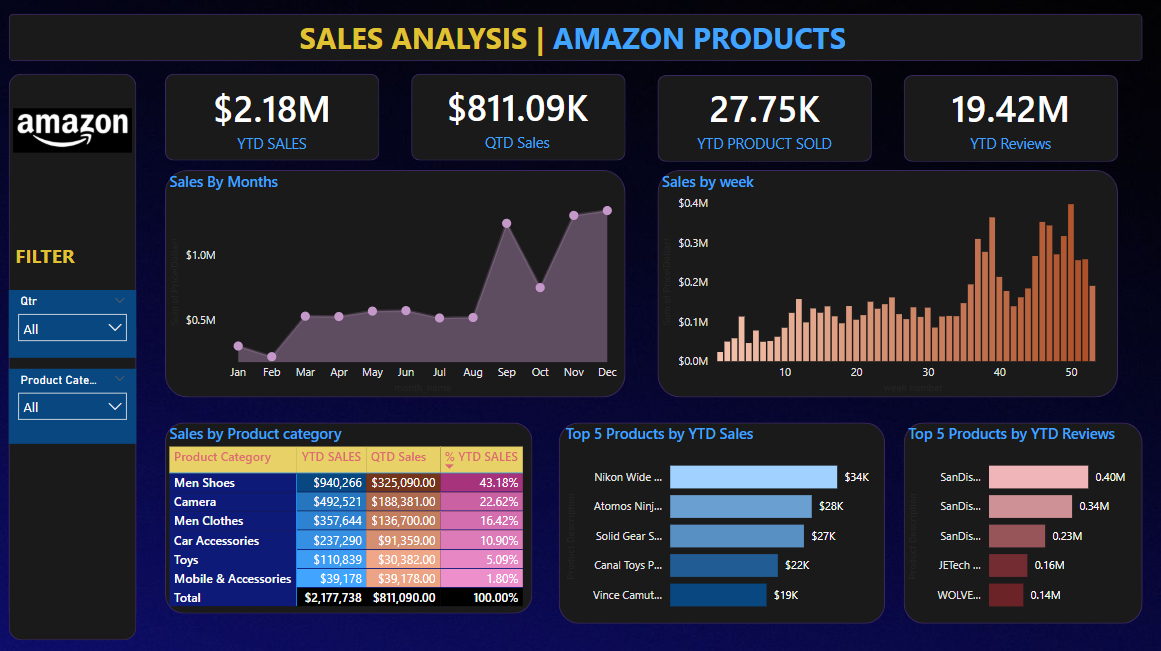

Layout of this report page (visuals, bound fields, positions):
{"tool":"powerbi","page":{"name":"Page 1","canvas":[1280,720],"ordinal":0},"visuals":[{"type":"shape","box":[14.5,15.7,1245,49.5],"z":0},{"type":"shape","box":[14.5,80.8,140,622],"z":1000},{"type":"textbox","box":[292,15.7,684.1,49.5],"z":2000},{"type":"shape","box":[187,80.8,235.3,95.3],"z":3000},{"type":"card","fields":{"Values":["Amazon_Data.YTD SALES"]},"box":[187,80.8,235.3,95.3],"z":4000},{"type":"shape","box":[457.2,80.8,235.3,95.3],"z":5000},{"type":"shape","box":[727.5,82,235.3,95.3],"z":6000},{"type":"shape","box":[997.7,82,235.3,95.3],"z":7000},{"type":"card","fields":{"Values":["Amazon_Data.QTD Sales"]},"box":[455.6,81,236,94.7],"z":8000},{"type":"card","fields":{"Values":["Amazon_Data.YTD PRODUCT SOLD"]},"box":[727.5,80.8,235.3,95.3],"z":9000},{"type":"card","fields":{"Values":["Amazon_Data.YTD Reviews"]},"box":[997.7,80.8,235.3,95.3],"z":10000},{"type":"shape","box":[187,187,505.5,249.7],"z":11000},{"type":"areaChart","title":"Sales By Months","fields":{"Category":["date.month_name"],"Y":["Amazon_Data.Price(Dollar)"]},"box":[187,188.2,505.5,248.5],"z":12000},{"type":"shape","box":[727.5,187,505.5,249.7],"z":13000},{"type":"columnChart","title":"Sales by week","fields":{"Category":["date.week number"],"Y":["Amazon_Data.Price(Dollar)"]},"box":[727.5,188.2,505.5,248.5],"z":14000},{"type":"shape","box":[186.6,463.8,403.4,209.9],"z":15000},{"type":"shape","box":[618.9,463.8,378.7,220.9],"z":16000},{"type":"pivotTable","title":"Sales by Product category","fields":{"Rows":["Amazon_Data.Product Category"],"Values":["Amazon_Data.YTD SALES1","Amazon_Data.QTD Sales","Amazon_Data.YTD SALES"]},"box":[186.6,463.8,403.4,209.9],"z":17000},{"type":"shape","box":[1018.2,444.6,262.1,249.7],"z":18000},{"type":"clusteredBarChart","title":"Top 5 Products by YTD Sales","fields":{"Y":["Amazon_Data.YTD SALES"],"Category":["Amazon_Data.Product Description"]},"box":[621.6,463.8,376,220.9],"z":19000},{"type":"clusteredBarChart","title":"Top 5 Products by YTD Reviews","fields":{"Y":["Amazon_Data.YTD Reviews"],"Category":["Amazon_Data.Product Description"]},"box":[1018.2,452.8,251.1,220.9],"z":20000},{"type":"slicer","fields":{"Values":["Amazon_Data.Product Category"]},"box":[13.7,463.8,140,118],"z":21000},{"type":"slicer","fields":{"Values":["date.Qtr"]},"box":[15.1,318.4,140,118],"z":22000},{"type":"image","box":[15.1,98.8,140,89.2],"z":23000},{"type":"textbox","box":[15.1,186.6,123.5,49.4],"z":23001}]}

Visuals, with their boxes in screenshot pixels (x1, y1, x2, y2), scaled from the page's 1280x720 canvas onto the 1161x651 screenshot:
shape: [13, 14, 1142, 59]
shape: [13, 73, 140, 635]
textbox: [265, 14, 885, 59]
shape: [170, 73, 383, 159]
card - Amazon_Data.YTD SALES: [170, 73, 383, 159]
shape: [415, 73, 628, 159]
shape: [660, 74, 873, 160]
shape: [905, 74, 1118, 160]
card - Amazon_Data.QTD Sales: [413, 73, 627, 159]
card - Amazon_Data.YTD PRODUCT SOLD: [660, 73, 873, 159]
card - Amazon_Data.YTD Reviews: [905, 73, 1118, 159]
shape: [170, 169, 628, 395]
"Sales By Months" areaChart: [170, 170, 628, 395]
shape: [660, 169, 1118, 395]
"Sales by week" columnChart: [660, 170, 1118, 395]
shape: [169, 419, 535, 609]
shape: [561, 419, 905, 619]
"Sales by Product category" pivotTable: [169, 419, 535, 609]
shape: [924, 402, 1160, 628]
"Top 5 Products by YTD Sales" clusteredBarChart: [564, 419, 905, 619]
"Top 5 Products by YTD Reviews" clusteredBarChart: [924, 409, 1151, 609]
slicer - Amazon_Data.Product Category: [12, 419, 139, 526]
slicer - date.Qtr: [14, 288, 141, 395]
image: [14, 89, 141, 170]
textbox: [14, 169, 126, 213]
